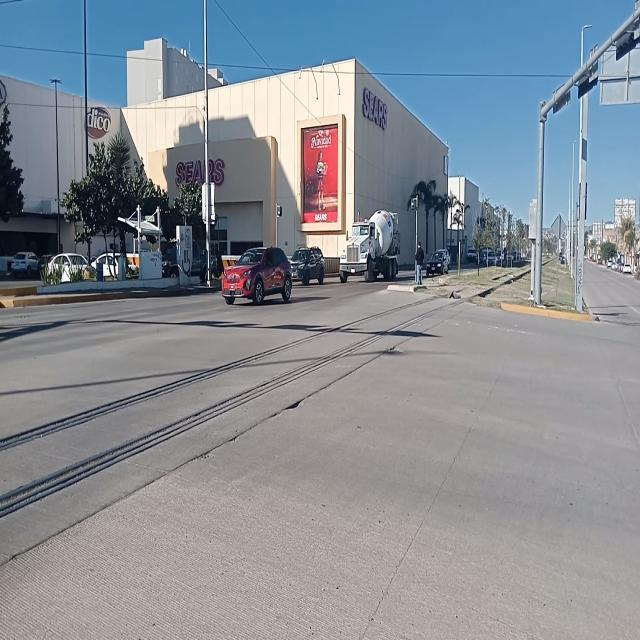Auto: (222, 245, 292, 302)
